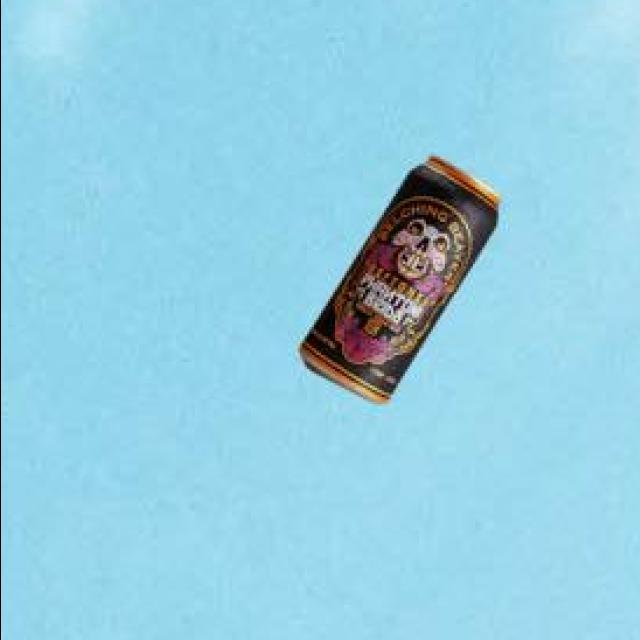logam: (295, 160, 496, 408)
